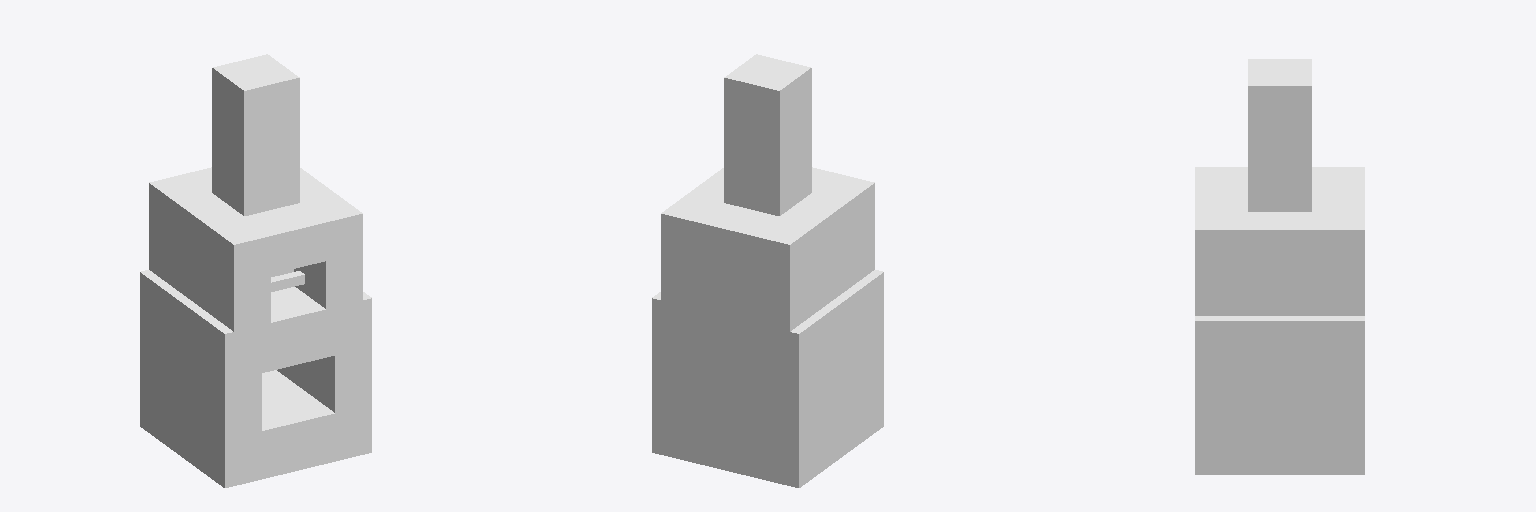
The model's file is brickoven.obj.
3 renders of one model, left to right at view 1: azimuth 30°, elevation 25°; view 2: azimuth 150°, elevation 25°; view 3: azimuth 270°, elevation 25°, orthographic.
Visible parts, largest first — view 1: g0; view 2: g0; view 3: g0.
Part boxes in pixels (bbox=[...]): g0: bbox=[140, 54, 371, 487]; g0: bbox=[652, 54, 883, 487]; g0: bbox=[1195, 59, 1364, 474].
Size of the model in its own units: 0.405 by 0.9619 by 0.405.